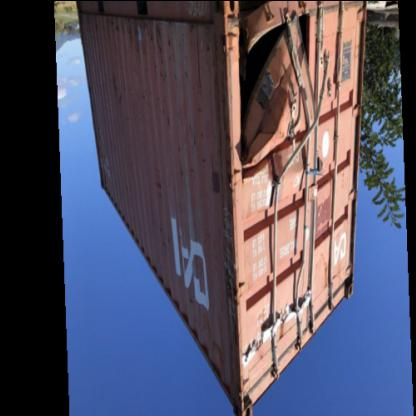Damage: (222, 0, 322, 350), (90, 1, 176, 66)
